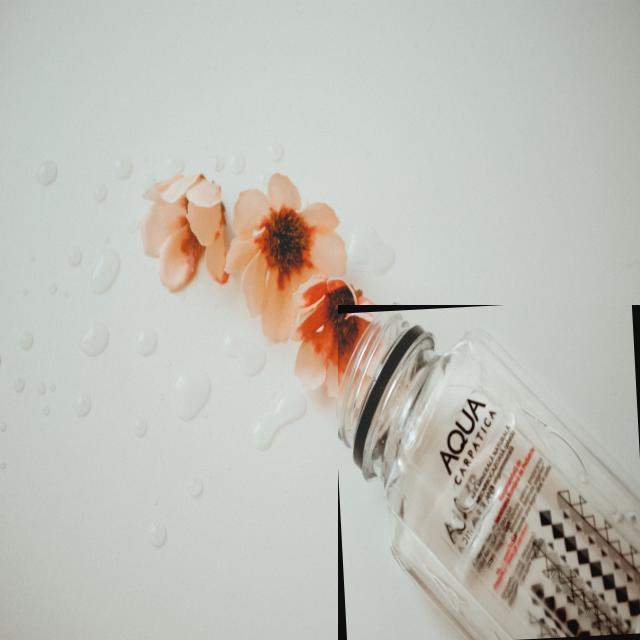Bottle: (339, 306, 639, 639)
